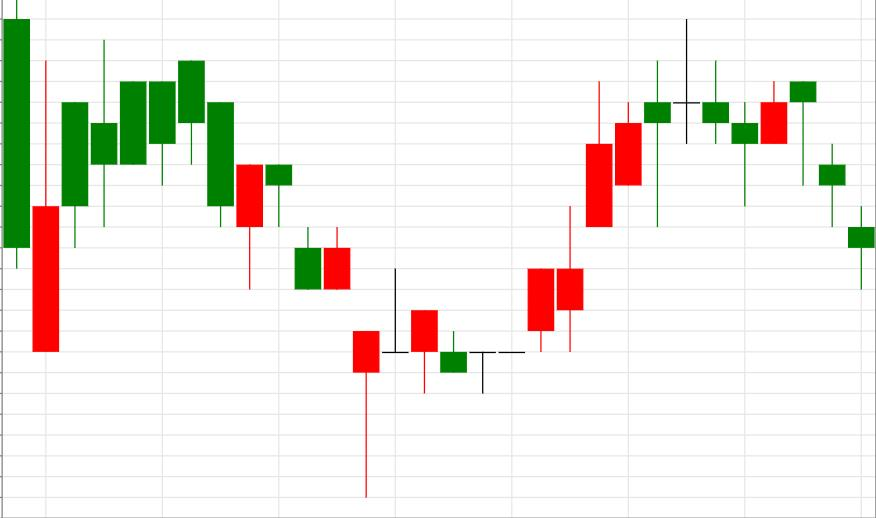hammer_rise: (178, 61, 380, 498)
